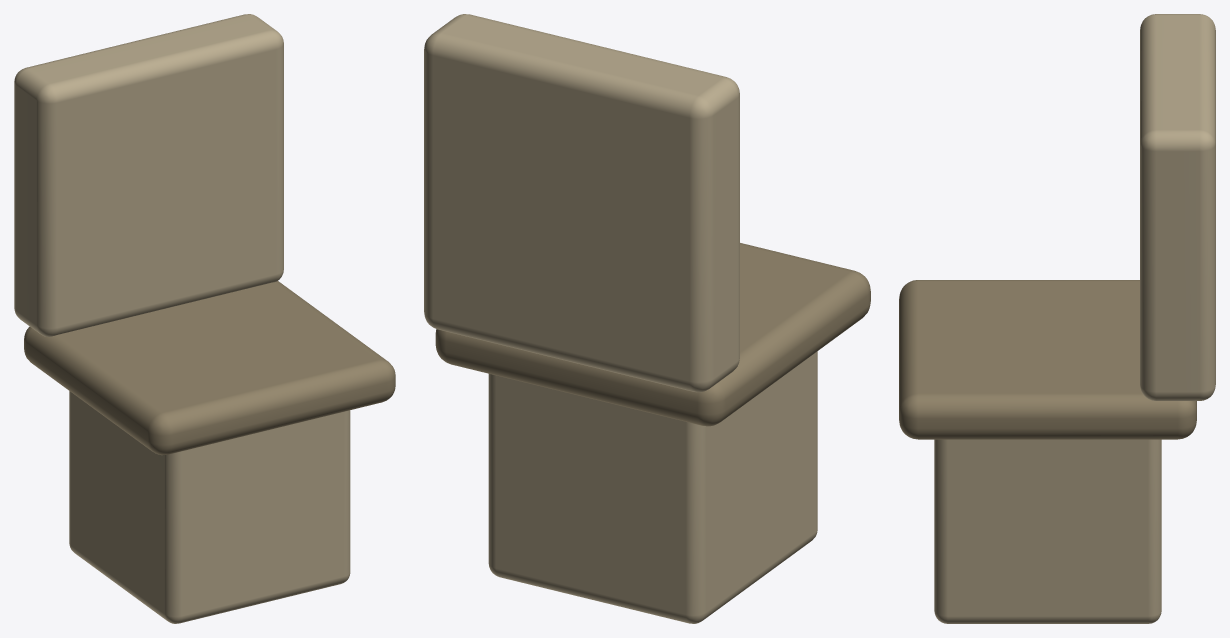
File: temple-chair.glb
3 views of the same model, side by side, from view 1: azimuth 30°, elevation 25°; view 2: azimuth 150°, elevation 25°; view 3: azimuth 270°, elevation 25° (orthographic). The views are drawn at different scales.
Parts seen in each view (by area): view 1: temple-chair - Room Review mineral stone runtime PBR, temple-chair - Room Review joinery runtime PBR; view 2: temple-chair - Room Review mineral stone runtime PBR, temple-chair - Room Review joinery runtime PBR; view 3: temple-chair - Room Review mineral stone runtime PBR, temple-chair - Room Review joinery runtime PBR.
Part boxes in pixels (x1=…): temple-chair - Room Review mineral stone runtime PBR: x1=14, y1=14, x2=350, y2=623; temple-chair - Room Review joinery runtime PBR: x1=24, y1=281, x2=395, y2=455; temple-chair - Room Review mineral stone runtime PBR: x1=424, y1=14, x2=817, y2=623; temple-chair - Room Review joinery runtime PBR: x1=435, y1=243, x2=870, y2=426; temple-chair - Room Review mineral stone runtime PBR: x1=934, y1=14, x2=1215, y2=623; temple-chair - Room Review joinery runtime PBR: x1=899, y1=280, x2=1196, y2=439.
Size of the model in its own units: 0.56 by 1.03 by 0.585.
